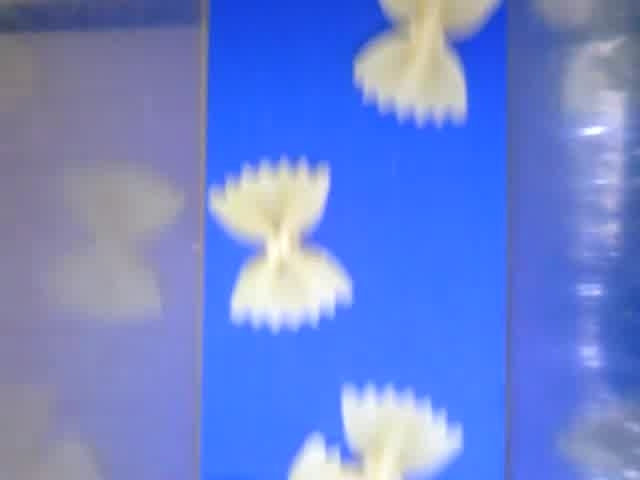farfalle: (210, 154, 357, 332), (351, 1, 502, 123), (339, 382, 462, 480), (287, 432, 365, 480)
